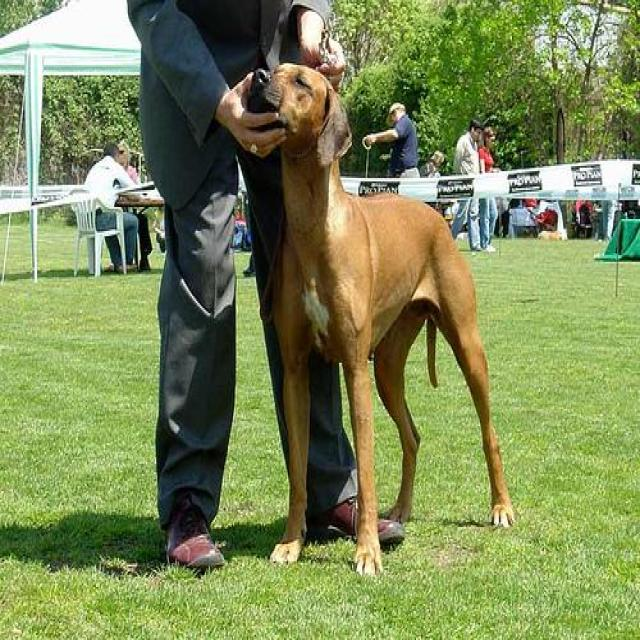rhodesian_ridgeback: (243, 51, 517, 582)
